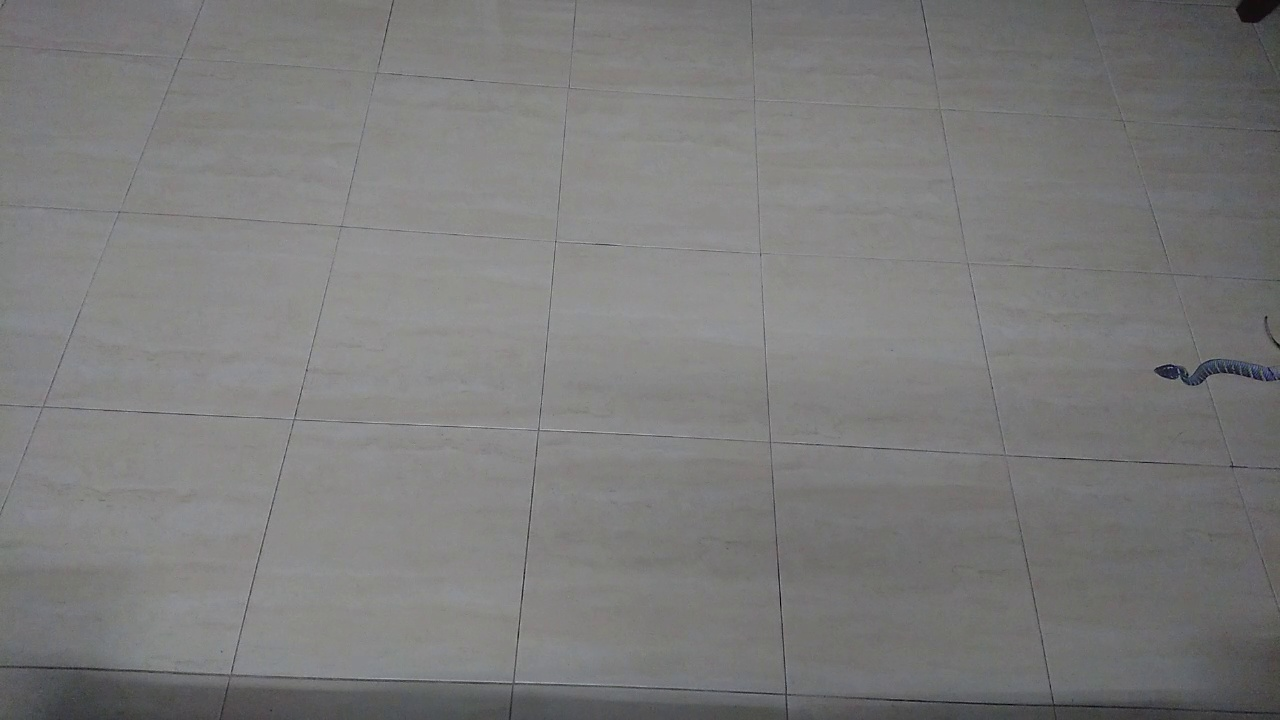snake: (1131, 294, 1280, 399)
